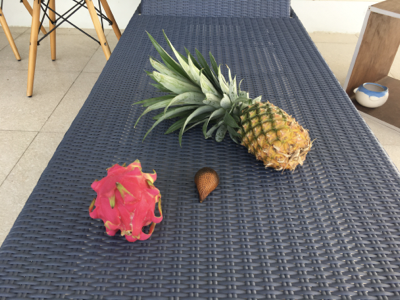dragon fruit: (90, 160, 164, 243)
pineapple: (134, 29, 313, 173)
snake fruit: (196, 167, 219, 203)
